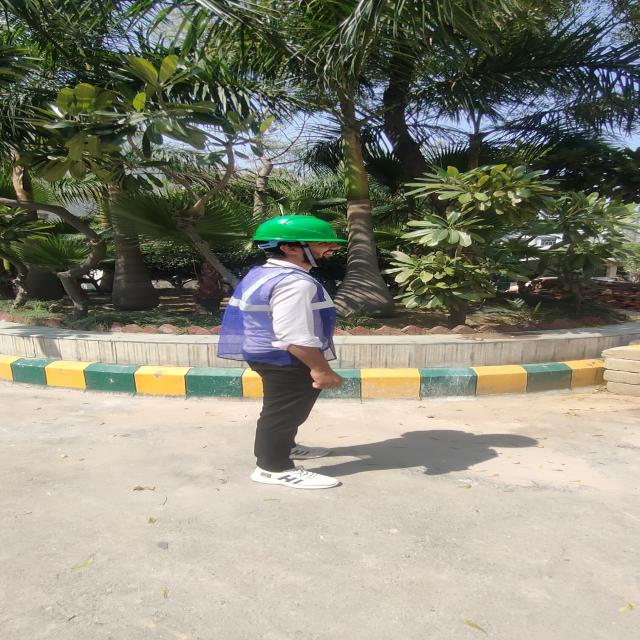safe: (215, 216, 349, 488)
